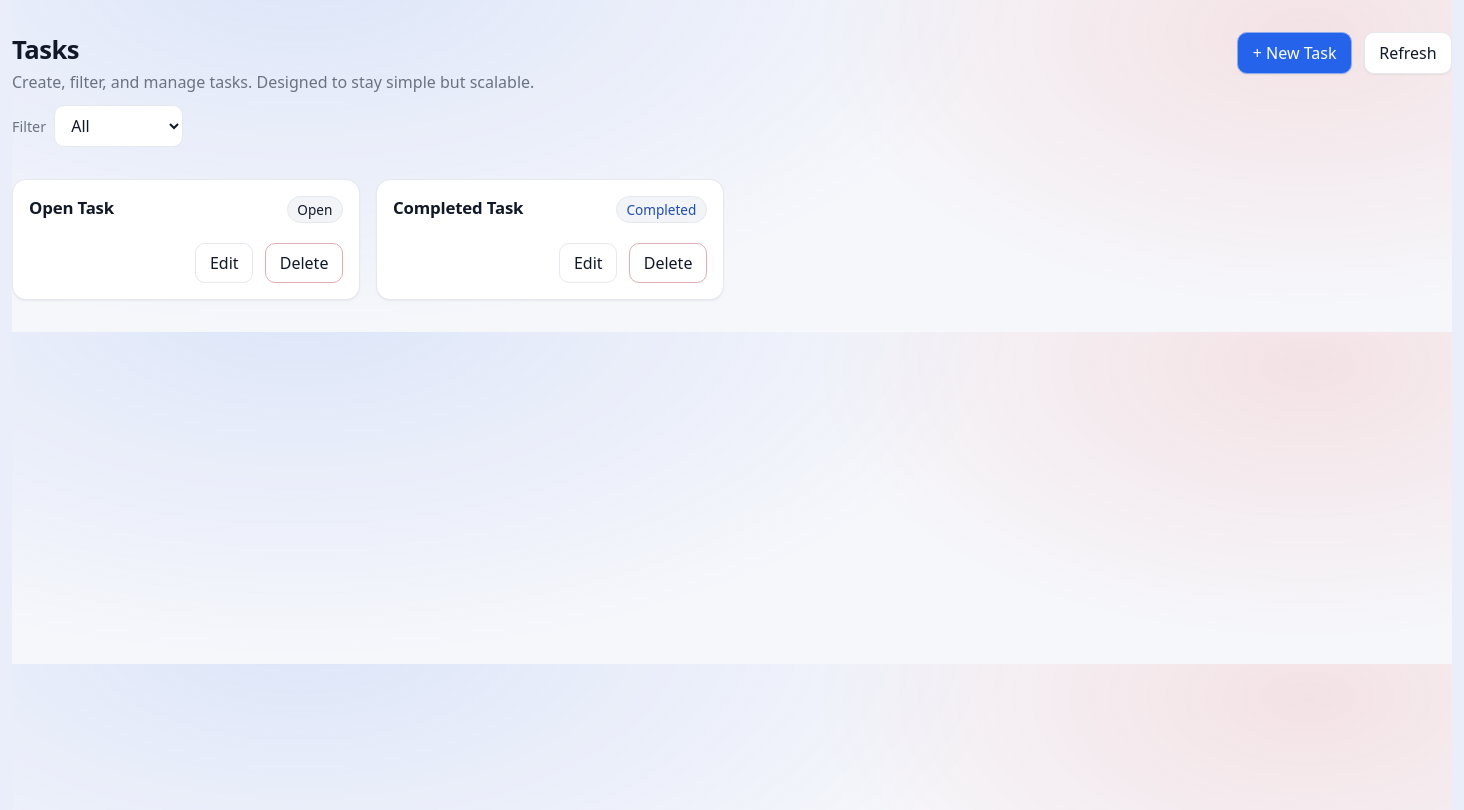
Test: TasksPage filter › filters to Completed tasks when dropdown is changed
Expected: the heading "Open Task" is shown, [29, 196, 114, 219]
Expected: the heading "Completed Task" is shown, [393, 196, 523, 219]
Select "Completed" in the dropdown named "Task status filter": (119, 126) [54, 105, 183, 147]
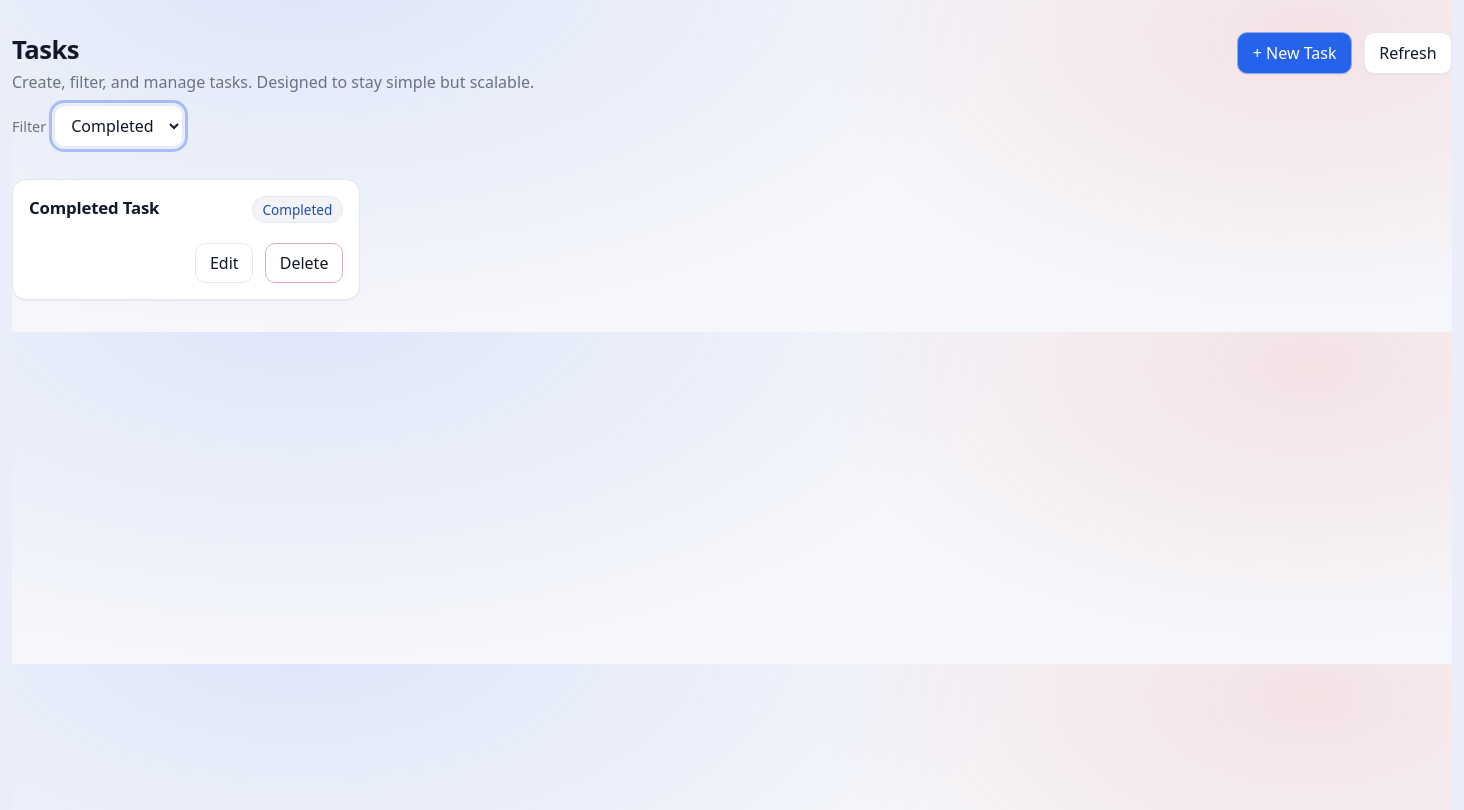
Expected: the heading "Completed Task" is shown, [29, 196, 159, 219]
Result: the heading "Open Task" is gone
